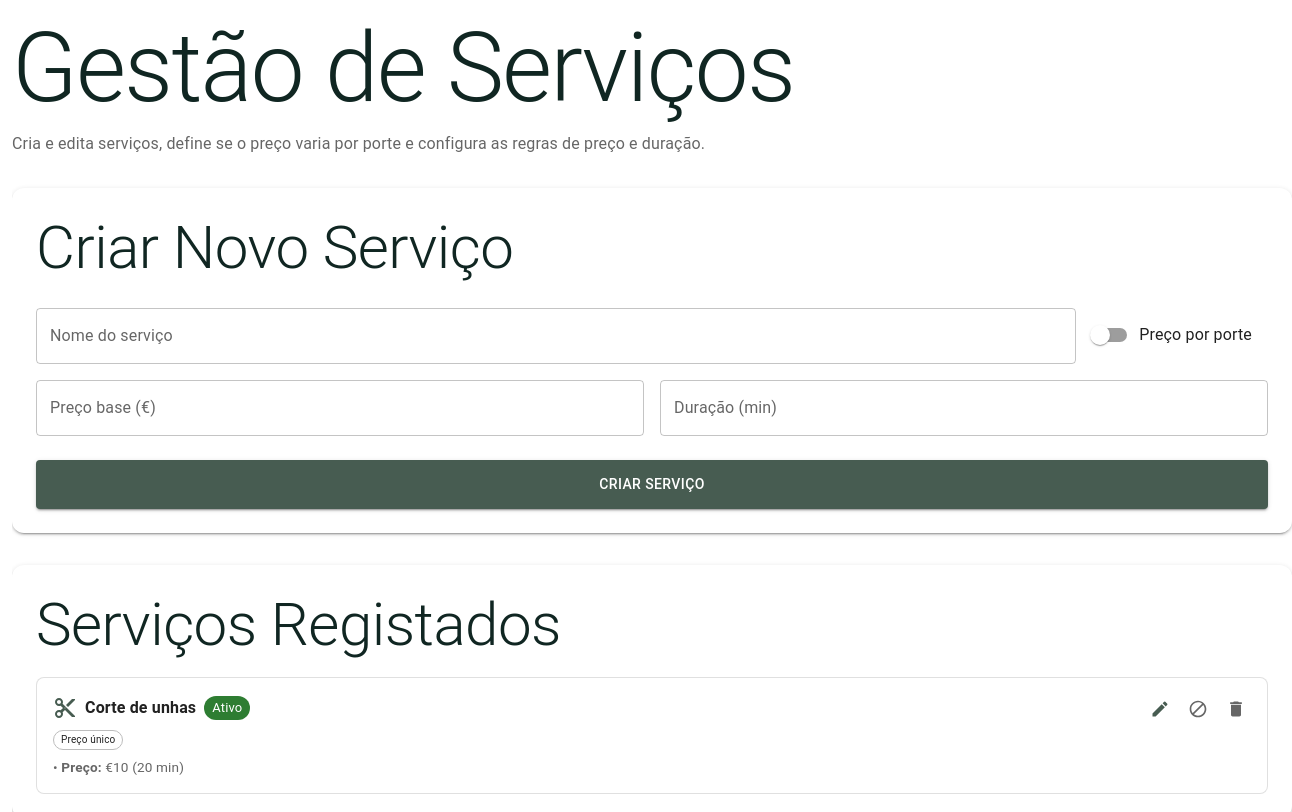
Scenario: ServicosPage — editar serviço › clicar em editar preenche o formulário com os dados do serviço
expect the heading "Corte de unhas" is shown: met, box x1=85 y1=694 x2=196 y2=722
Click the button titled "Editar serviço" at (1160, 708), box x1=1145 y1=694 x2=1175 y2=724
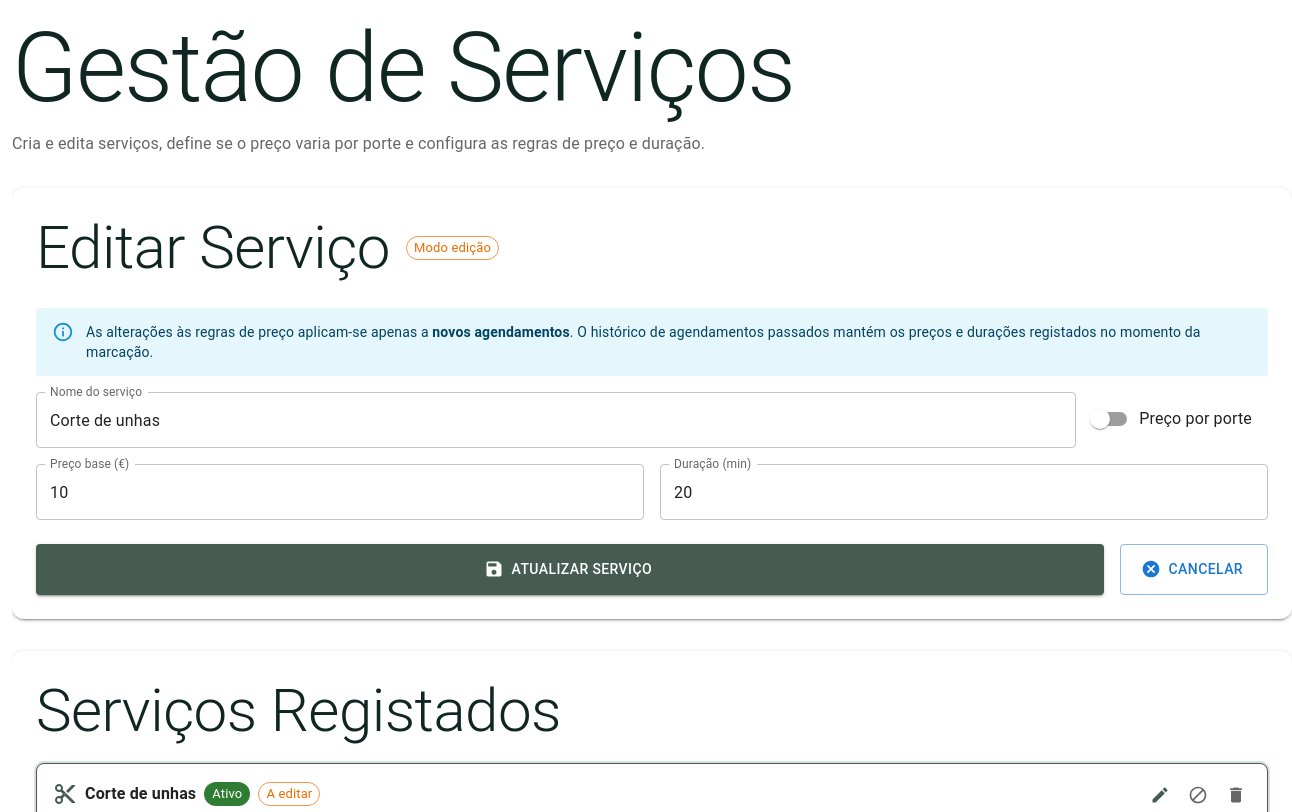
expect the field showing "Corte de unhas" is shown: met, box x1=36 y1=392 x2=1076 y2=448
expect the heading "Editar Serviço" is shown: met, box x1=36 y1=212 x2=390 y2=284
